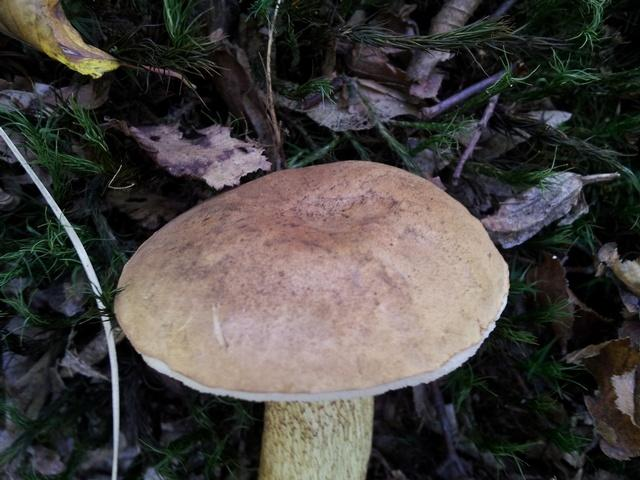poisonous_mushroom: (111, 158, 511, 478)
